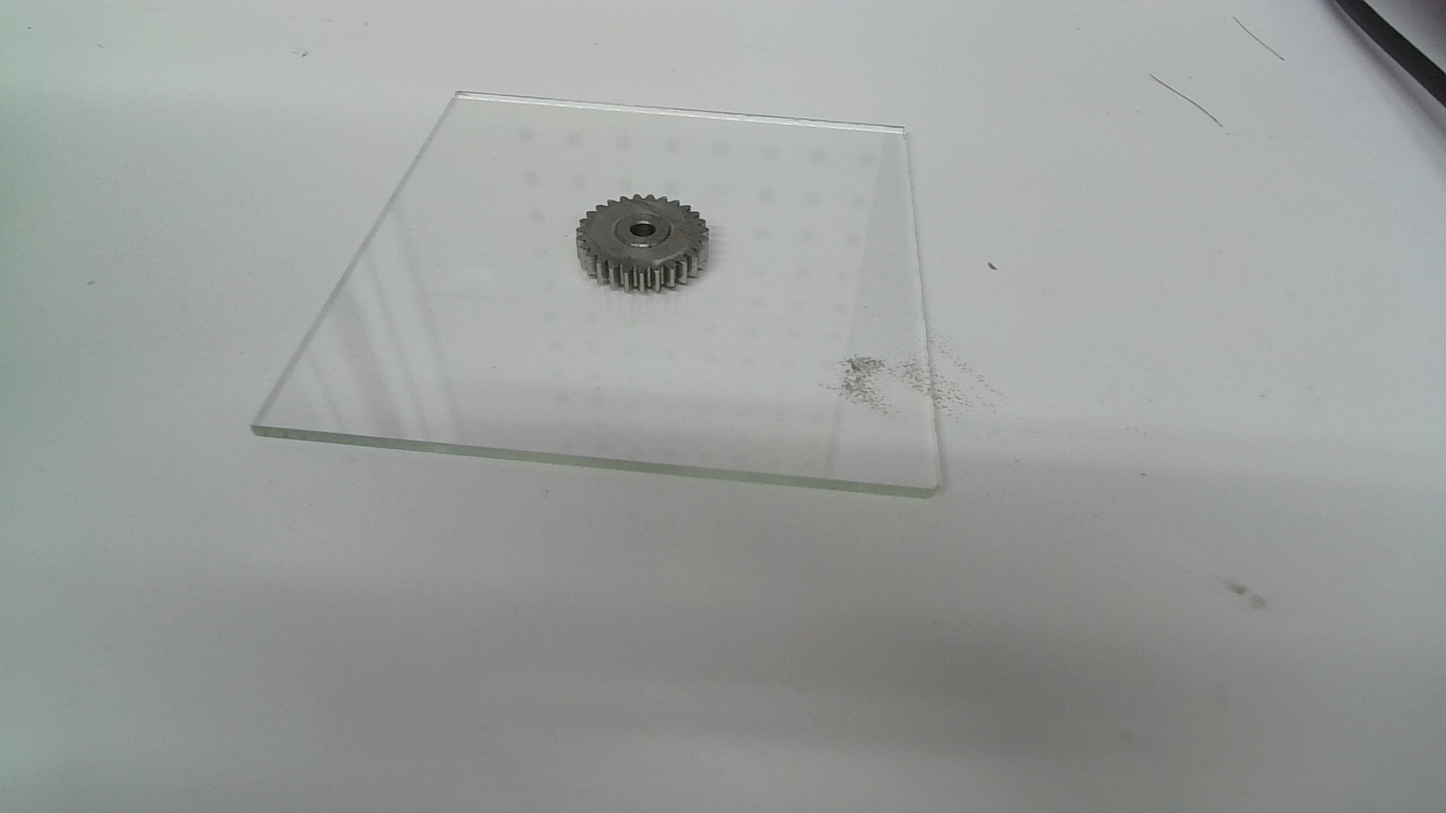gear: (572, 191, 713, 296)
